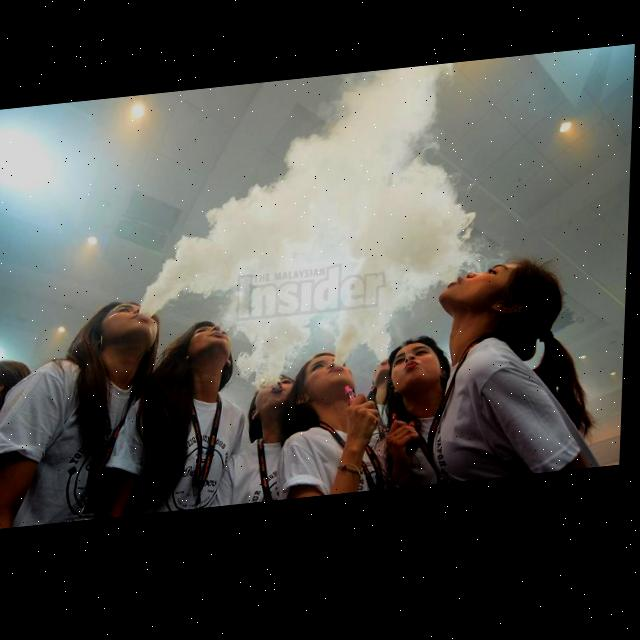vape: (392, 419, 424, 466), (348, 393, 361, 414)
